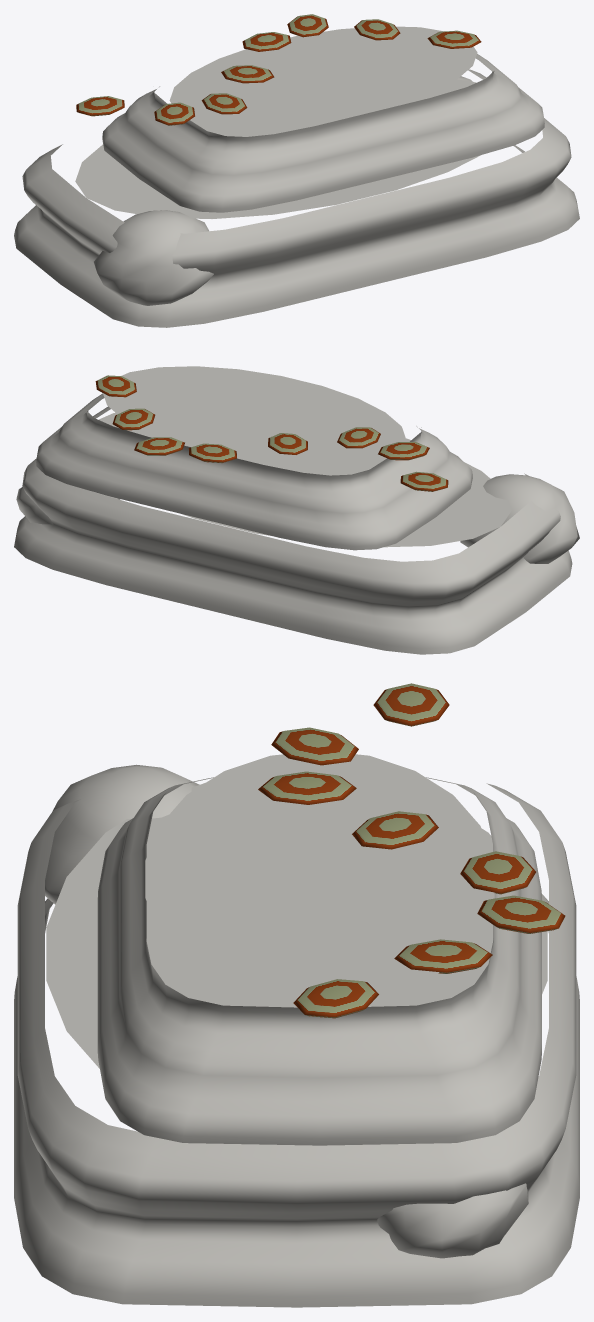
Rendered from birds-and-reptiles-hd-rock-ledge-67ed286a__28116.glb.
3 views of the same model, one above another, from view 1: azimuth 30°, elevation 25°; view 2: azimuth 150°, elevation 25°; view 3: azimuth 270°, elevation 25° (orthographic). The views are drawn at different scales.
Parts seen in each view (by area): view 1: rock-ledge; view 2: rock-ledge; view 3: rock-ledge.
Boxes of the visible parts, x1=… form: rock-ledge: x1=14, y1=14, x2=579, y2=327; rock-ledge: x1=14, y1=366, x2=579, y2=654; rock-ledge: x1=14, y1=683, x2=579, y2=1307.
Size of the model in its own units: 2.63 by 0.74 by 1.48.
Materials: 2 (1 with a texture image).
